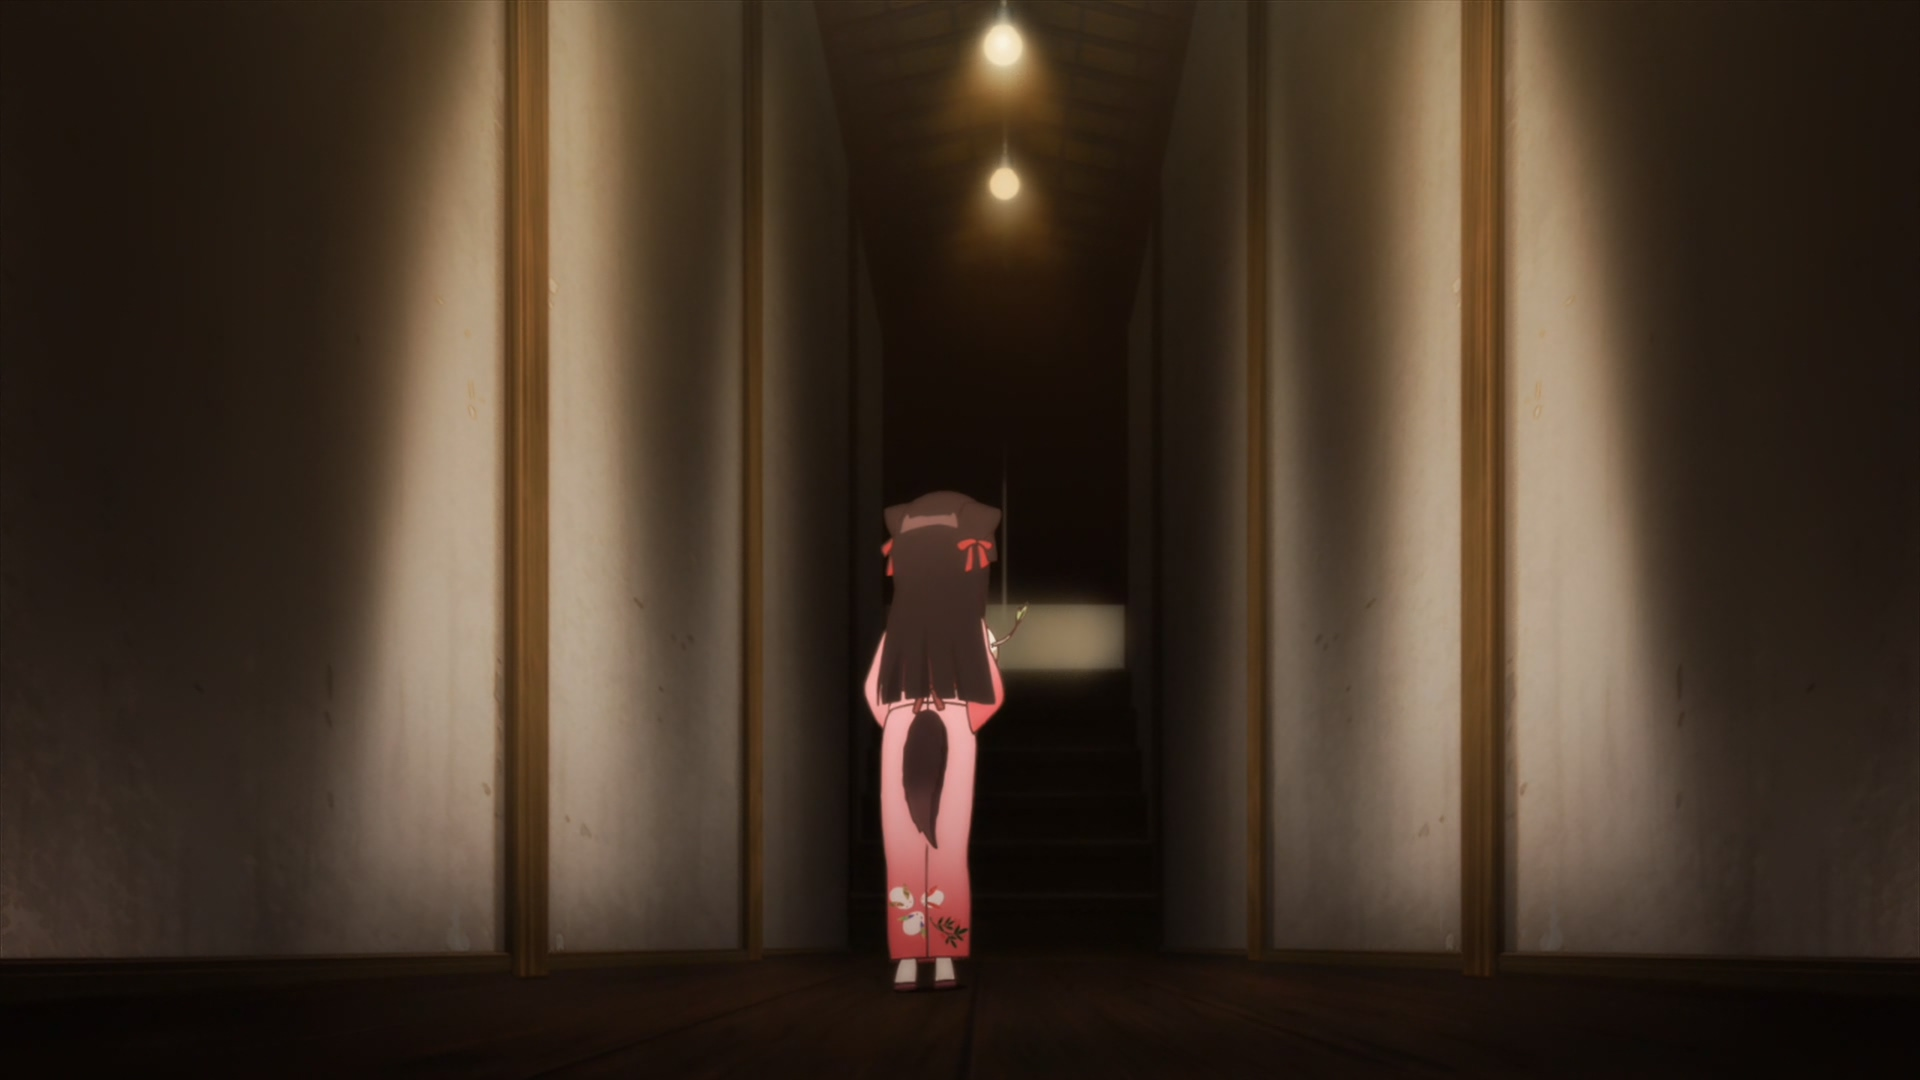樱: (862, 493, 1001, 986)
